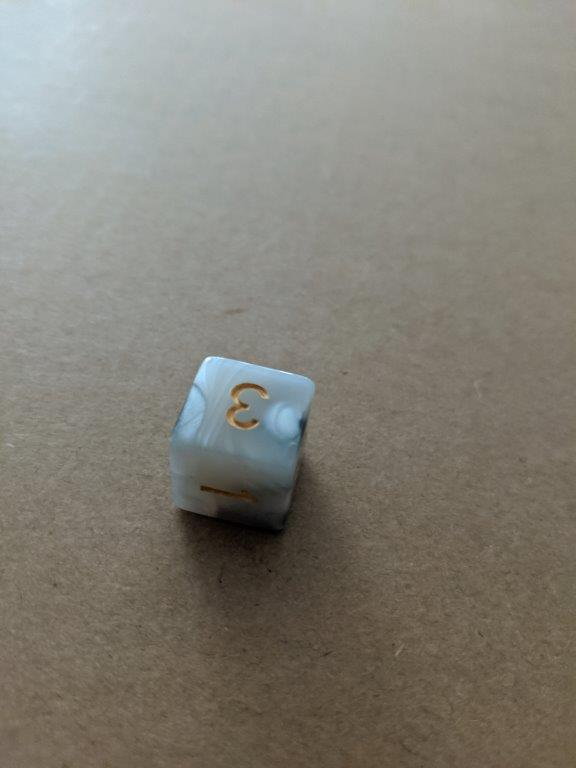d6-3: (168, 354, 318, 536)
